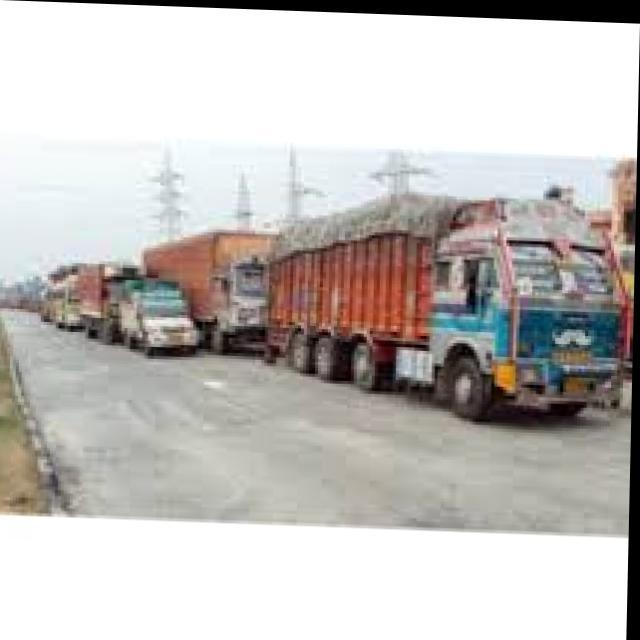covered: (259, 175, 634, 419), (138, 222, 276, 350)
